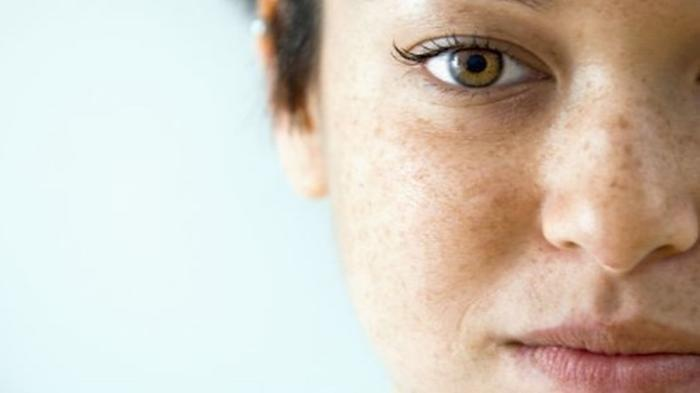Dark-Spots: (327, 52, 700, 346)
